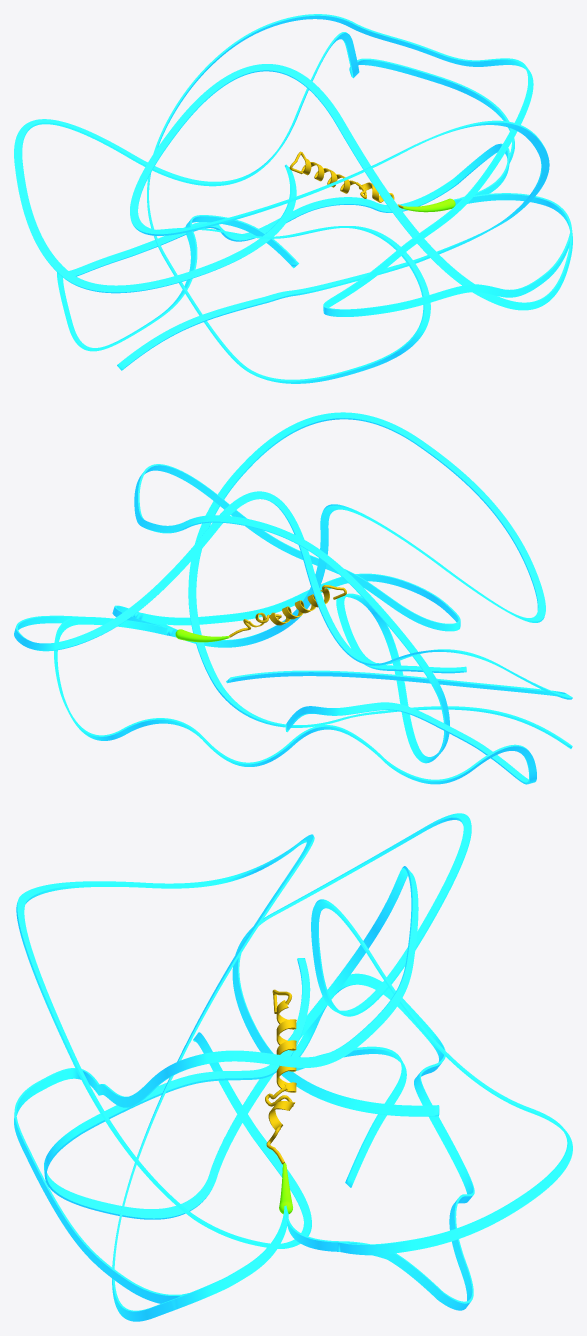
Rendered from TestA.gltf.
3 renders of one model, top to bottom at view 1: azimuth 30°, elevation 25°; view 2: azimuth 150°, elevation 25°; view 3: azimuth 270°, elevation 25°, orthographic. The views are drawn at different scales.
Visible parts, largest first — view 1: Carrier_Geo, Connect; view 2: Carrier_Geo, Connect; view 3: Carrier_Geo, Connect.
Part boxes in pixels (left/top/right/bottom): Carrier_Geo: left=14, top=14, right=572, bottom=383; Connect: left=289, top=151, right=403, bottom=208; Carrier_Geo: left=14, top=412, right=572, bottom=784; Connect: left=229, top=585, right=346, bottom=637; Carrier_Geo: left=14, top=813, right=572, bottom=1321; Connect: left=265, top=989, right=296, bottom=1164.
Bounding box in the file's own units: 197 × 106 × 140.
